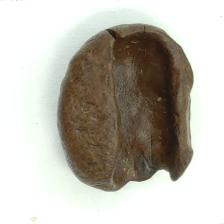NG: (99, 22, 195, 194)
